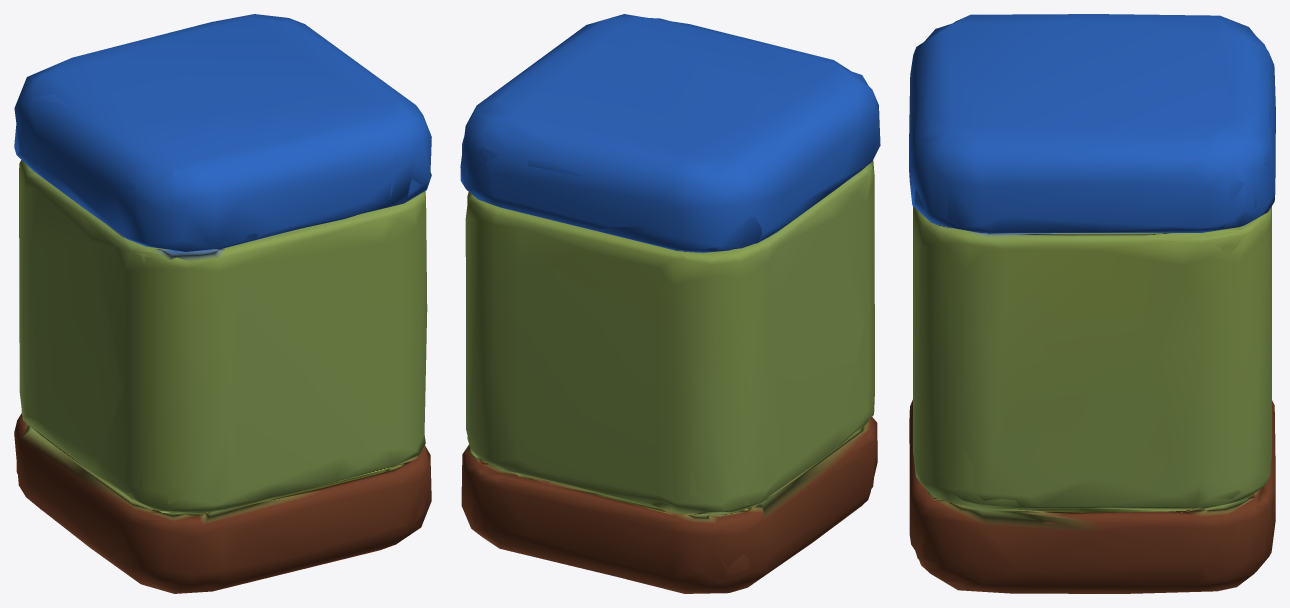
File: gen3d-spice-rack-lod0.glb
3 views of the same model, side by side, from view 1: azimuth 30°, elevation 25°; view 2: azimuth 150°, elevation 25°; view 3: azimuth 270°, elevation 25° (orthographic). The views are drawn at different scales.
Visible parts, largest first — view 1: part_0; view 2: part_0; view 3: part_0.
Part boxes in pixels (x1,y1,x2,y2): part_0: (14,14,431,593); part_0: (460,14,880,593); part_0: (909,14,1275,593).
Size of the model in its own units: 0.7286 by 0.9999 by 0.7285.
